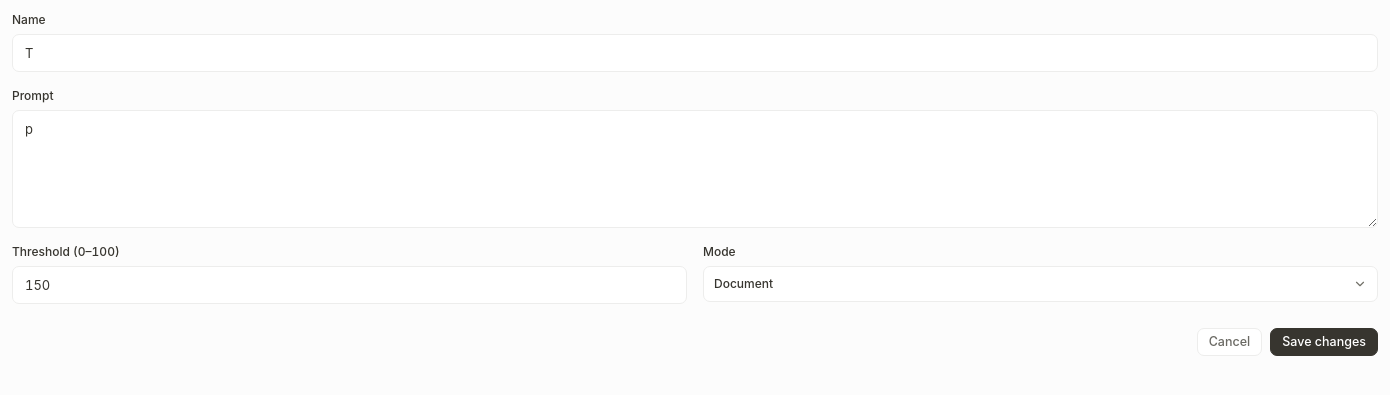
Test: SignalForm › flags an out-of-range threshold
The width and height of the screenshot is (1390, 395).
Click the button "Save changes".
click(1324, 342)  # box [1270,328,1378,356]
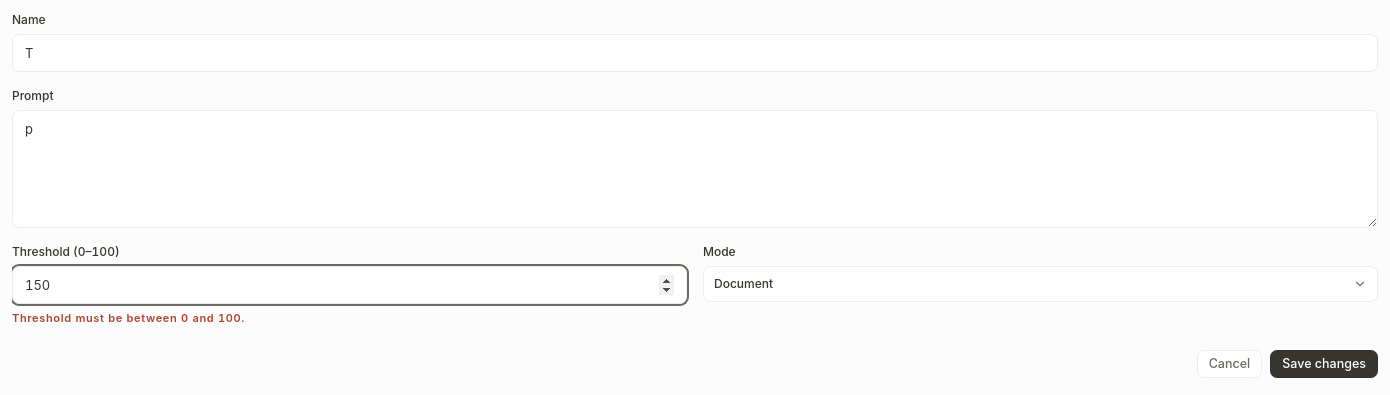
expect the text "Threshold must be between 0 and 100." is shown: met, box [11,310,245,325]
